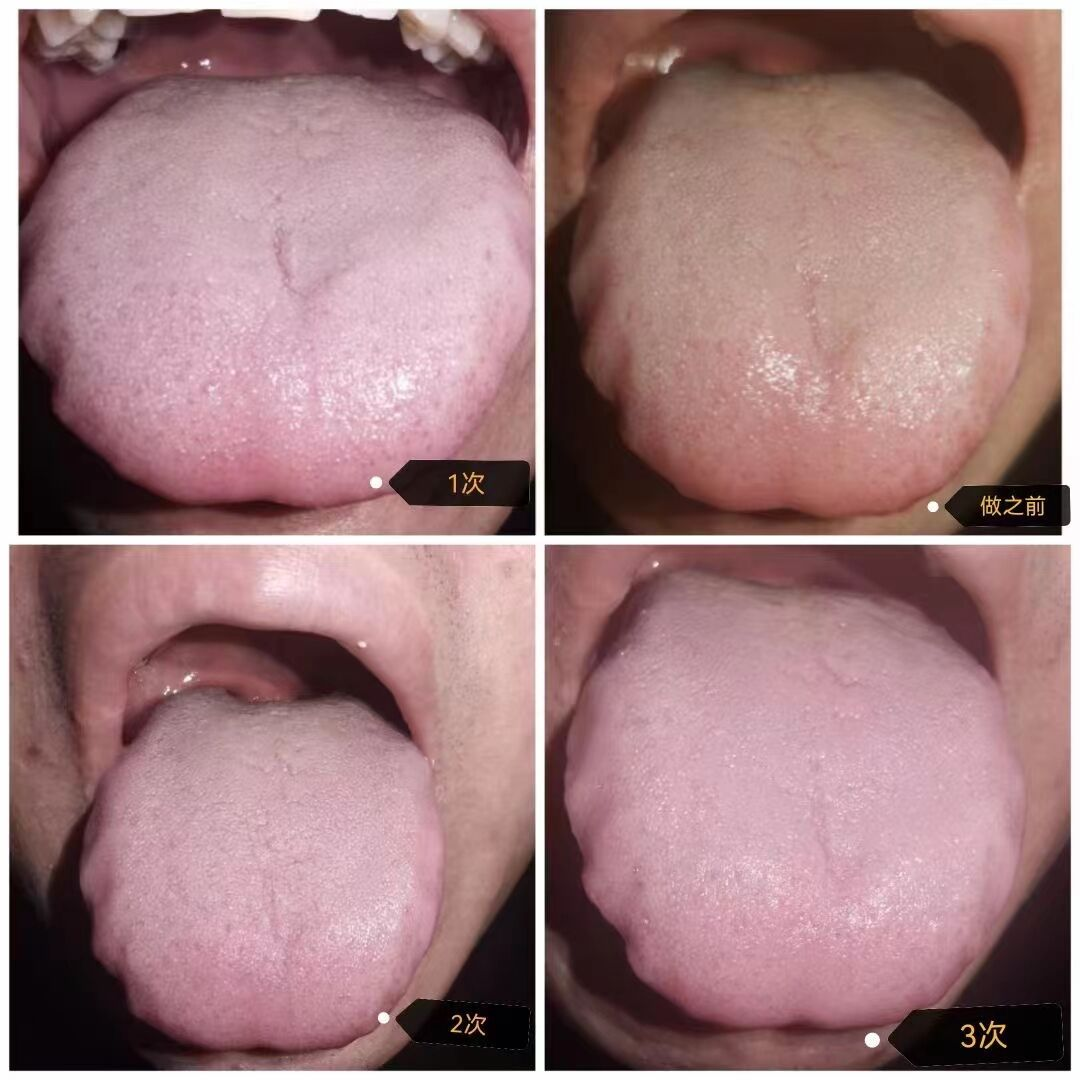baitaishe: (21, 76, 535, 506), (565, 572, 1021, 1031), (79, 688, 443, 1055)
chihenshe: (566, 804, 665, 996), (81, 870, 162, 1026), (569, 248, 631, 446), (21, 301, 97, 446)
huangtaishe: (568, 64, 1026, 515)
pangdashe: (20, 76, 534, 506), (565, 571, 1021, 1030), (569, 64, 1027, 515), (80, 688, 444, 1055)
